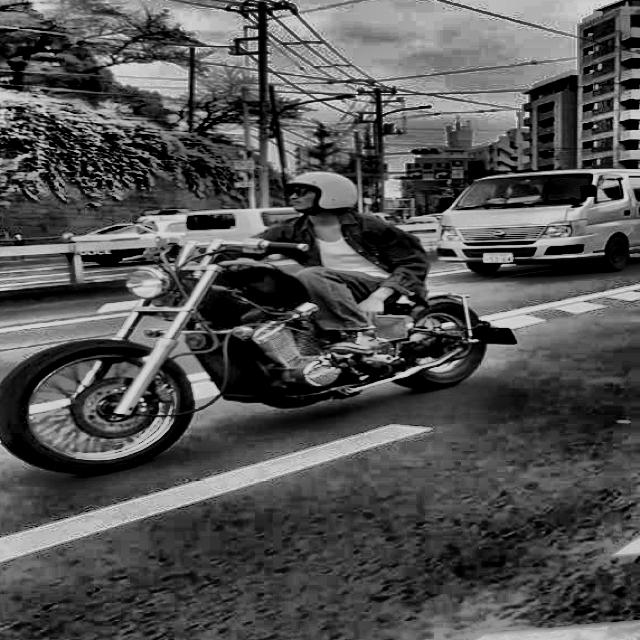Helmet: (279, 167, 364, 219)
